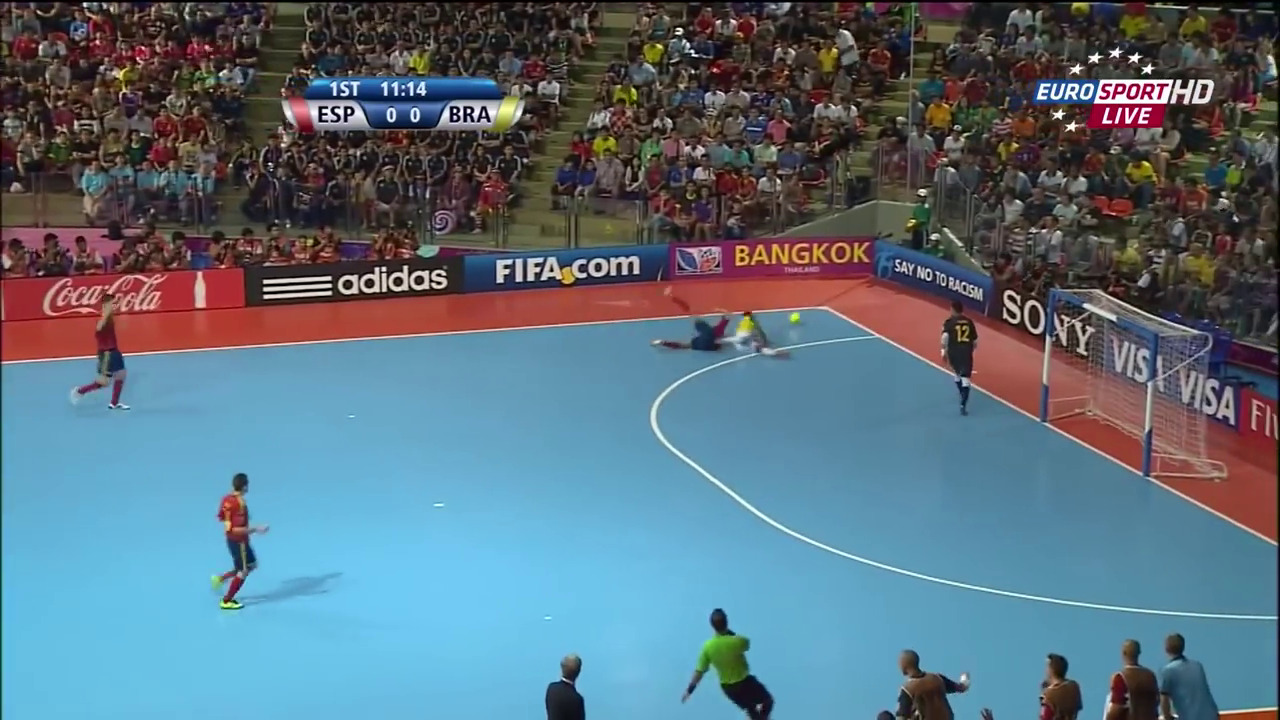ball: (788, 313, 803, 327)
person: (203, 473, 265, 614), (71, 294, 130, 417), (936, 296, 982, 417), (664, 289, 726, 353), (727, 308, 782, 362)
